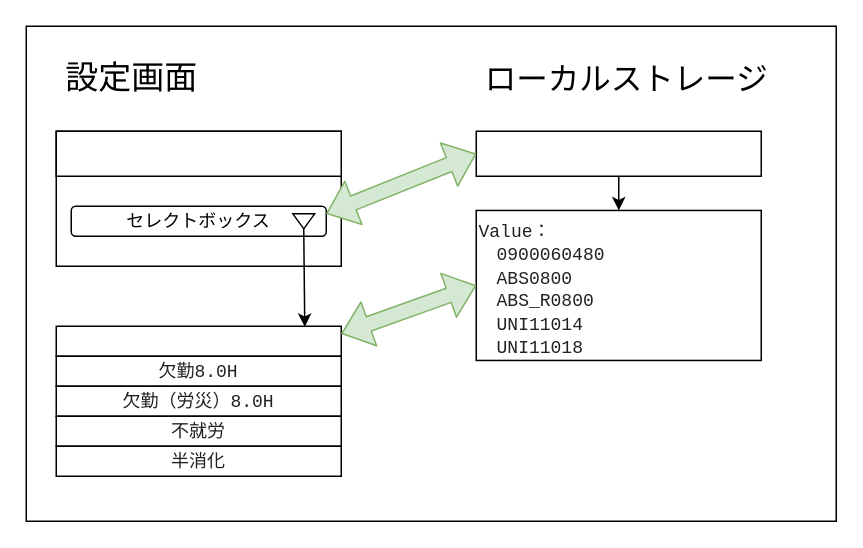
Image size: 863x548. Some labels were removed from this diagram. The shapes that lost their labels are listed below. From the top down, each one's centre as x and y in pixels, then its label:
At [198,153]: "勤務名称".
At [618,153]: "Key：KNMCDS".
At [198,340]: "8.0H_09:00-18:00".
